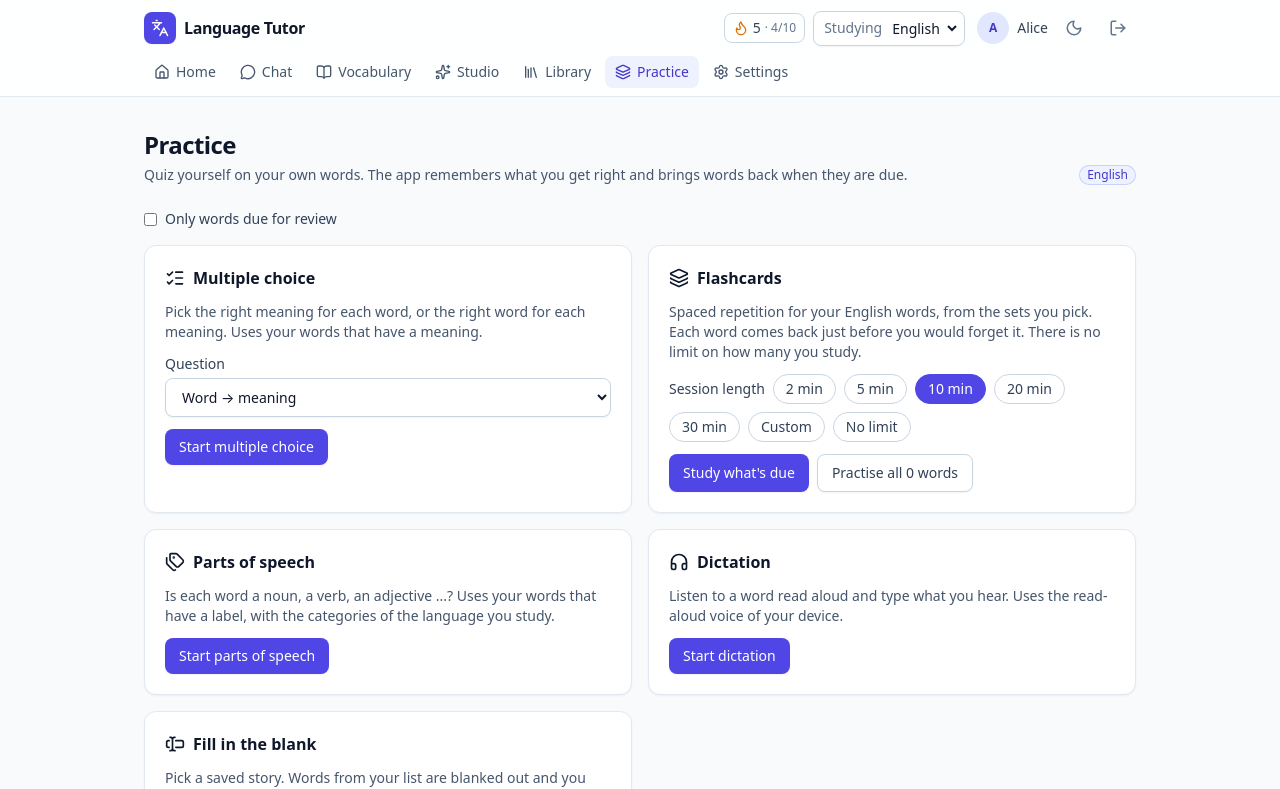
it: weekly challenge and garden › says so, with a bigger effect, when a practice answer finishes the challenge
This screenshot has width=1280, height=789.
What coordinates should you click on to do the following:
click the button "Study what's due"
I would click on:
 (739, 473)
Its box is left=669, top=454, right=809, bottom=492.
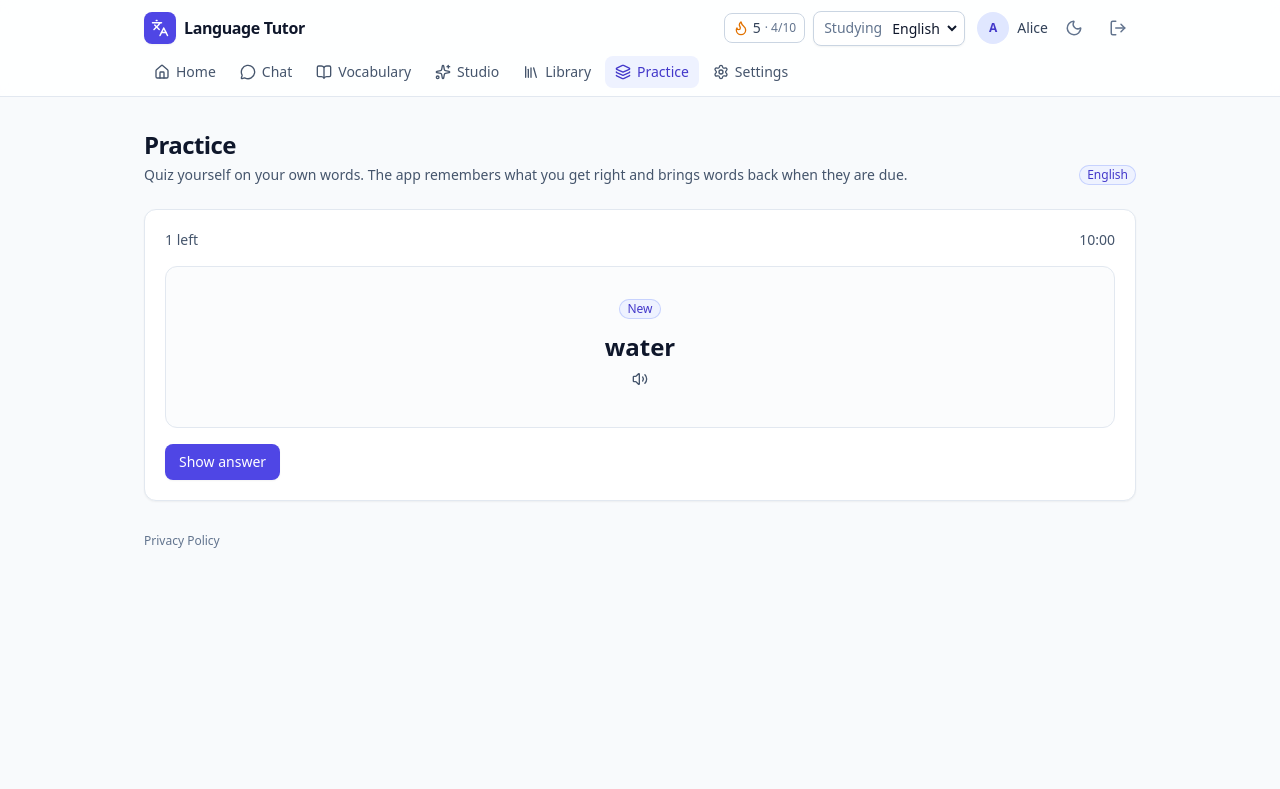
What coordinates should you click on to do the following:
click the button "Show answer"
I would click on:
 (223, 462)
Its box is left=165, top=444, right=280, bottom=480.
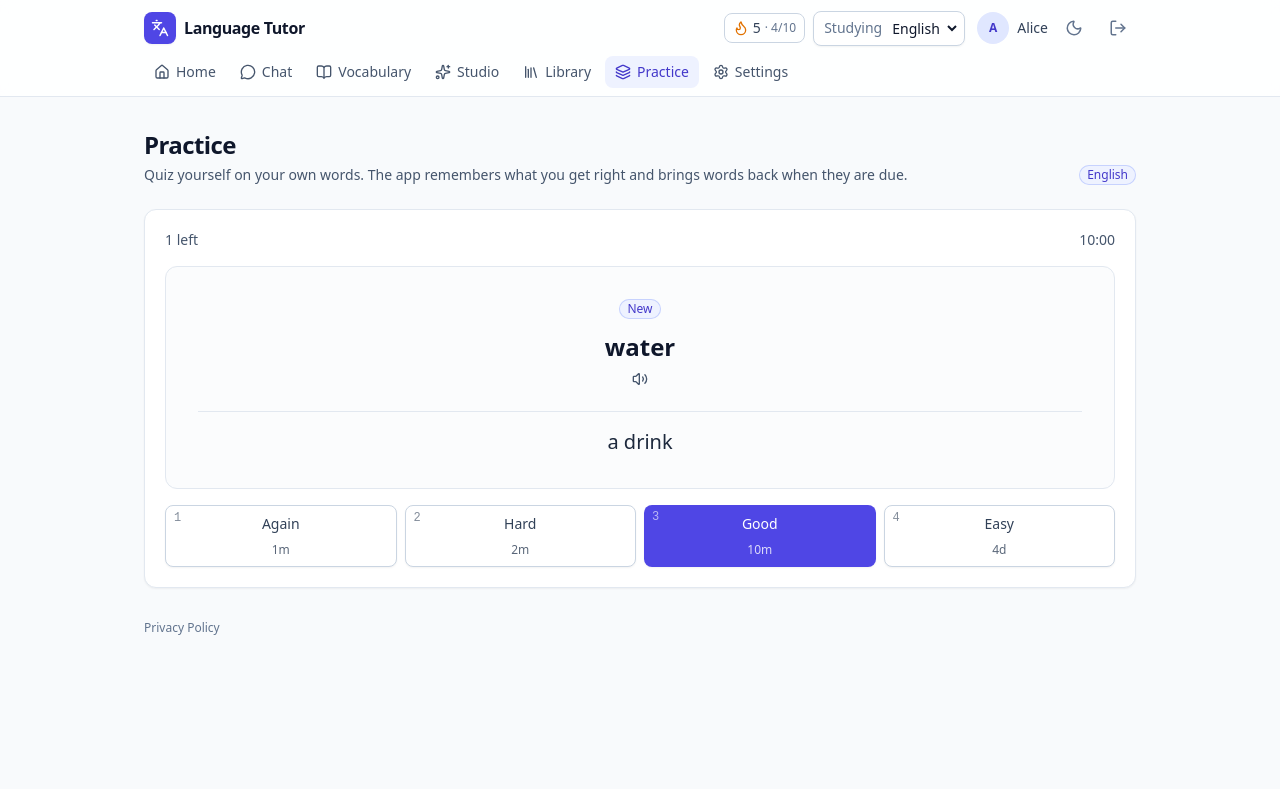
What coordinates should you click on to do the following:
click the button "3 Good 10m"
I would click on:
 (760, 536)
Its box is left=644, top=505, right=876, bottom=567.
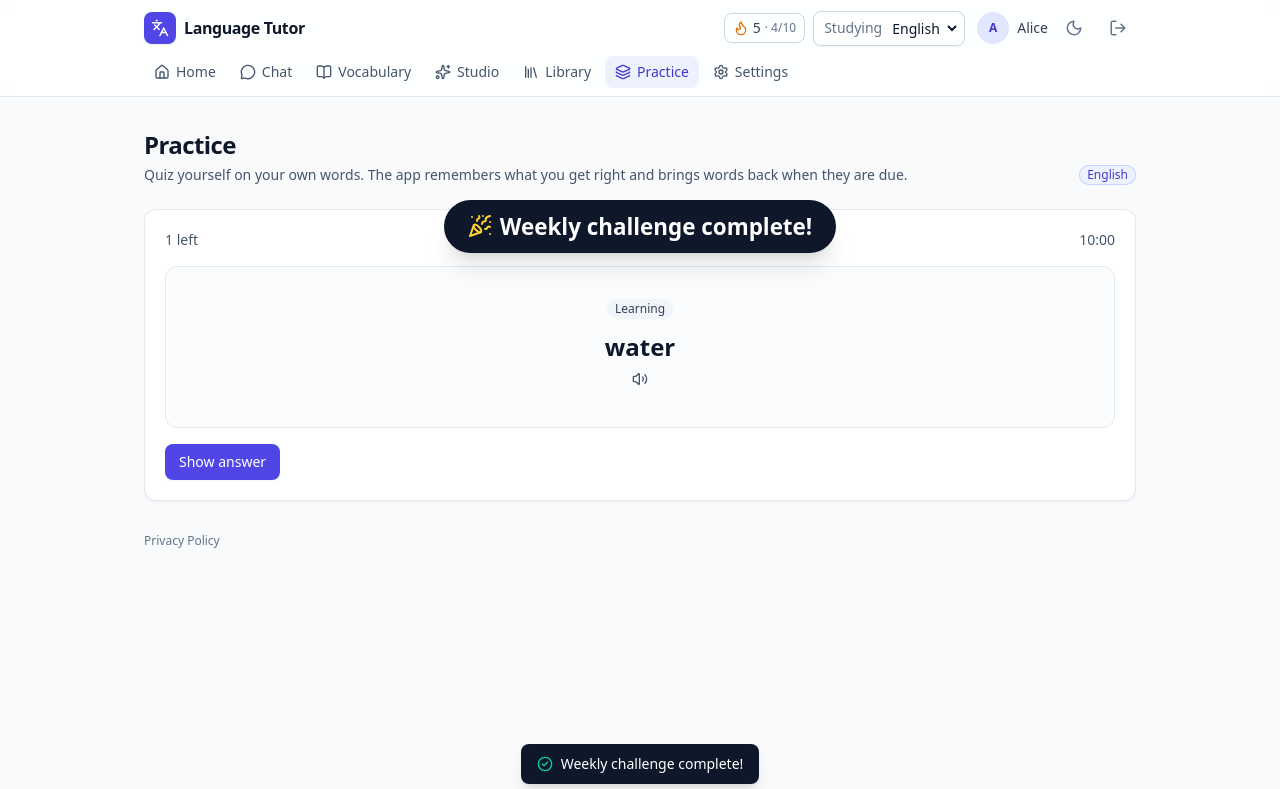
Expected: the text "Weekly challenge complete!" is shown, left=444, top=200, right=836, bottom=253
